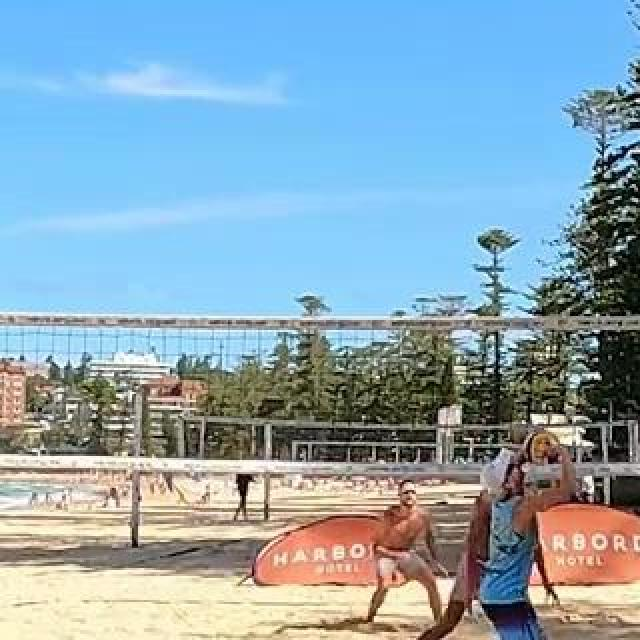volleyball: (526, 432, 558, 462)
